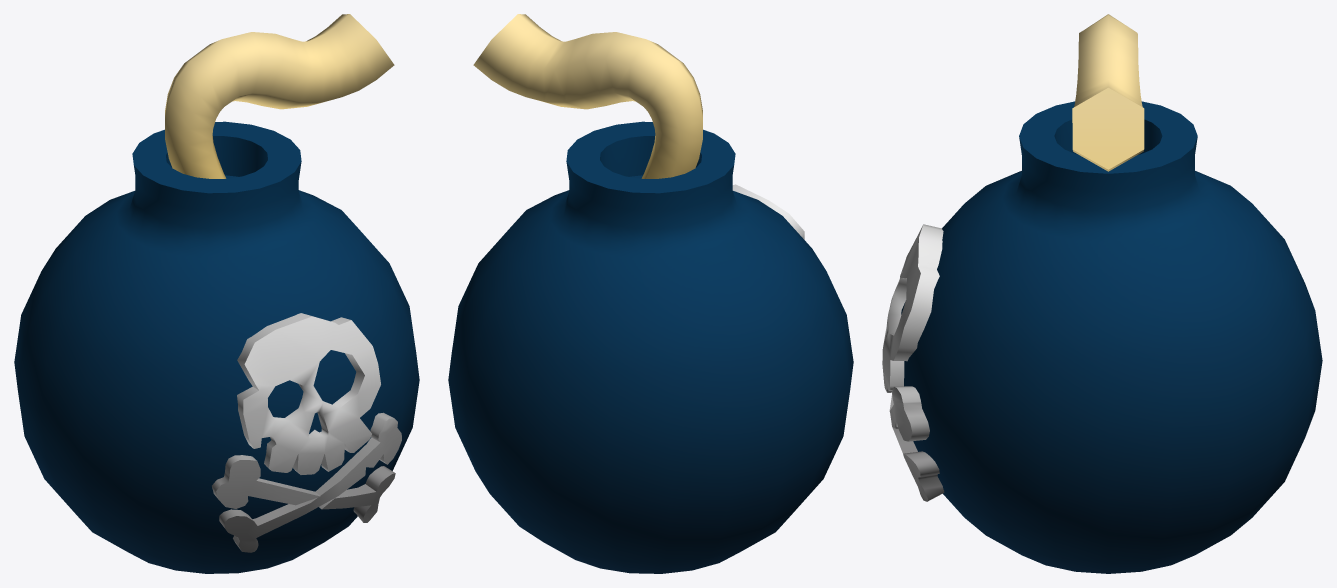
The model's file is Collectable_Bomb_02.fbx.
3 views of the same model, side by side, from view 1: azimuth 30°, elevation 25°; view 2: azimuth 150°, elevation 25°; view 3: azimuth 270°, elevation 25° (orthographic). The views are drawn at different scales.
Visible parts, largest first — view 1: Collectable_Bomb_02; view 2: Collectable_Bomb_02; view 3: Collectable_Bomb_02.
Boxes of the visible parts, x1,y1,x2,y2 form: Collectable_Bomb_02: (14, 14, 419, 573); Collectable_Bomb_02: (448, 14, 853, 573); Collectable_Bomb_02: (882, 14, 1322, 573).
Size of the model in its own units: 67.37 by 94.03 by 69.23.
